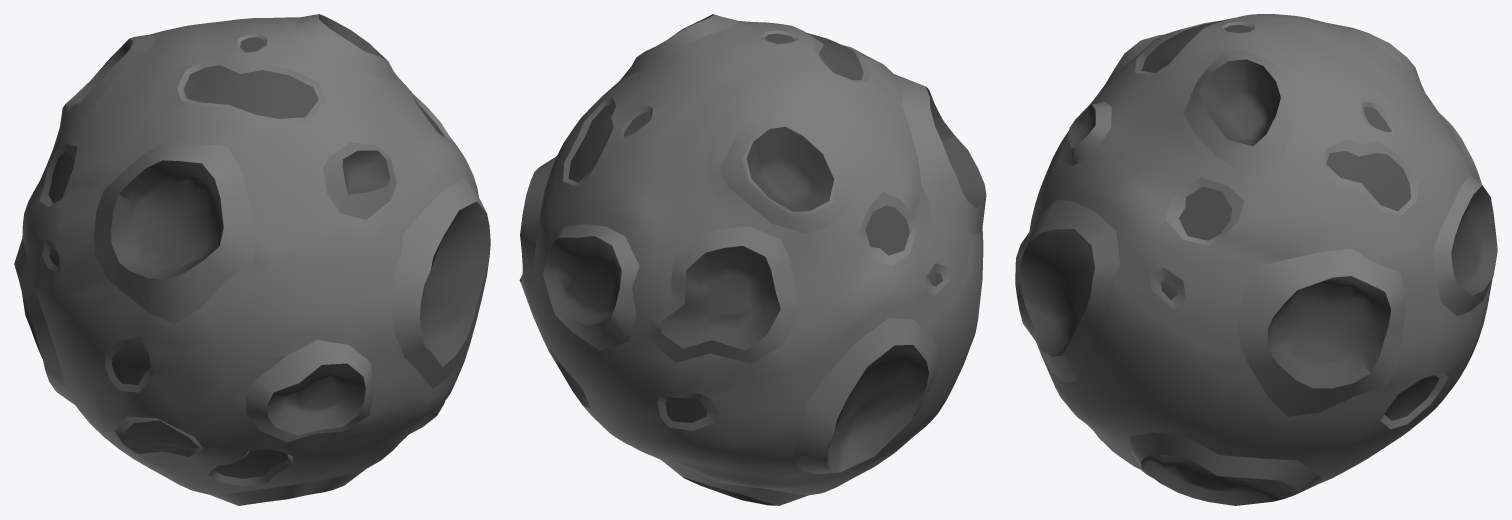
The model's file is Mining_Planet.fbx.
3 views of the same model, side by side, from view 1: azimuth 30°, elevation 25°; view 2: azimuth 150°, elevation 25°; view 3: azimuth 270°, elevation 25° (orthographic).
Visible parts, largest first — view 1: Mining_Planet; view 2: Mining_Planet; view 3: Mining_Planet.
Boxes of the visible parts, left/top/right/bottom form: Mining_Planet: left=14, top=14, right=490, bottom=505; Mining_Planet: left=519, top=14, right=986, bottom=505; Mining_Planet: left=1015, top=14, right=1497, bottom=505.
Size of the model in its own units: 94.77 by 100 by 97.02.
1 material, 1 textured.
